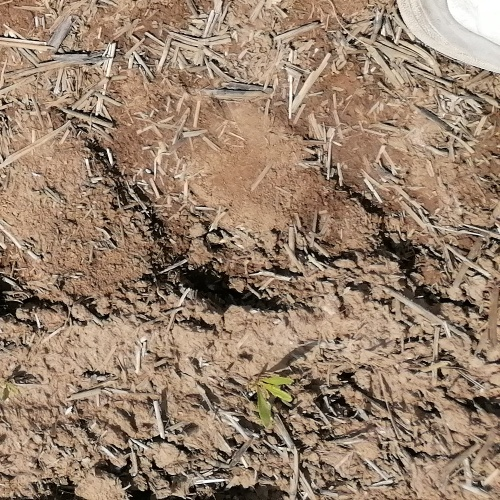beet: (250, 374, 293, 435)
